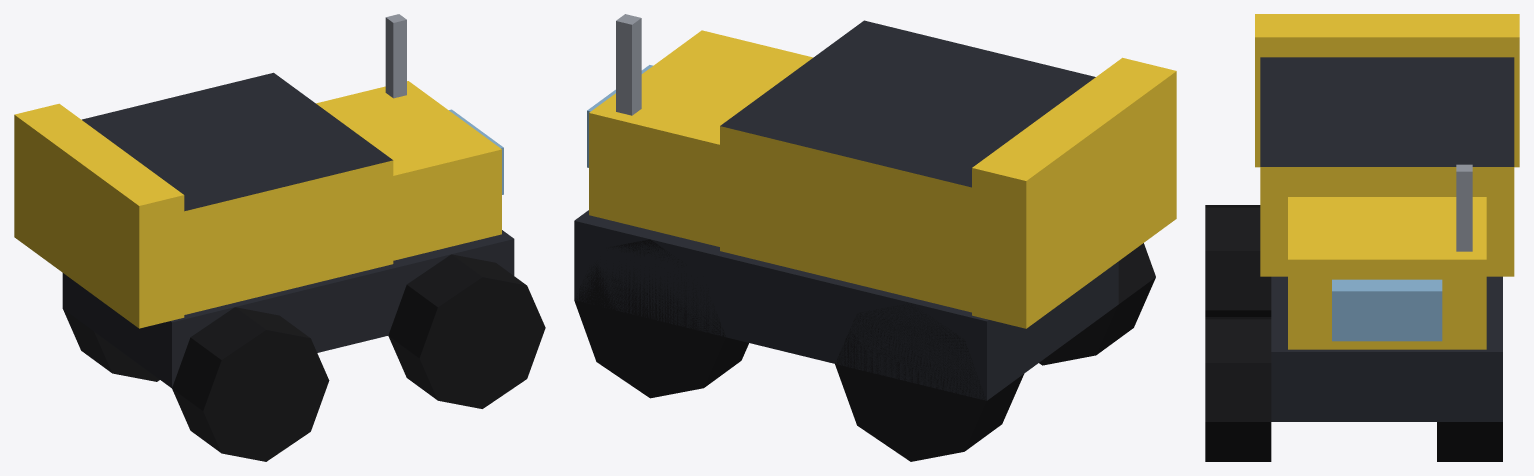
Rendered from camion_minero.obj.
The picture shows the model from 3 angles, left to right: view 1: azimuth 30°, elevation 25°; view 2: azimuth 150°, elevation 25°; view 3: azimuth 270°, elevation 25°; orthographic projection. The views are drawn at different scales.
Visible parts, largest first — view 1: camion_minero; view 2: camion_minero; view 3: camion_minero.
Boxes of the visible parts, x1,y1,x2,y2 form: camion_minero: (14,14,545,461); camion_minero: (574,14,1176,461); camion_minero: (1205,14,1519,461).
Bounding box in the file's own units: 8.9 × 6.2 × 5.7.
